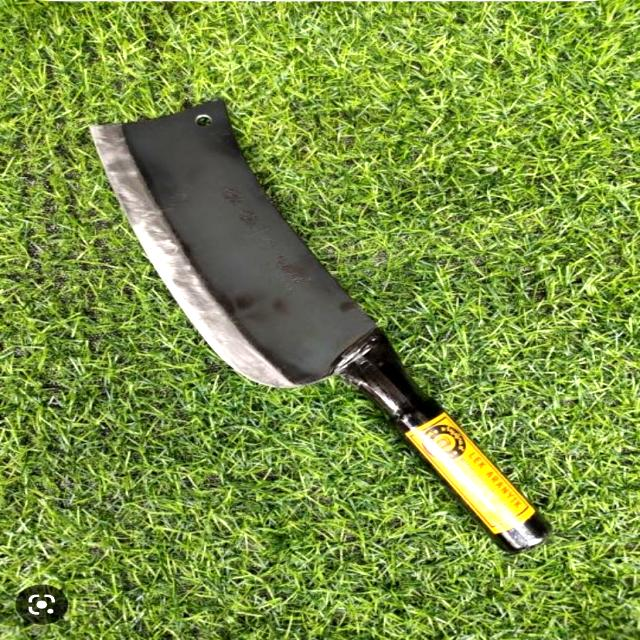knife: (65, 94, 586, 564)
